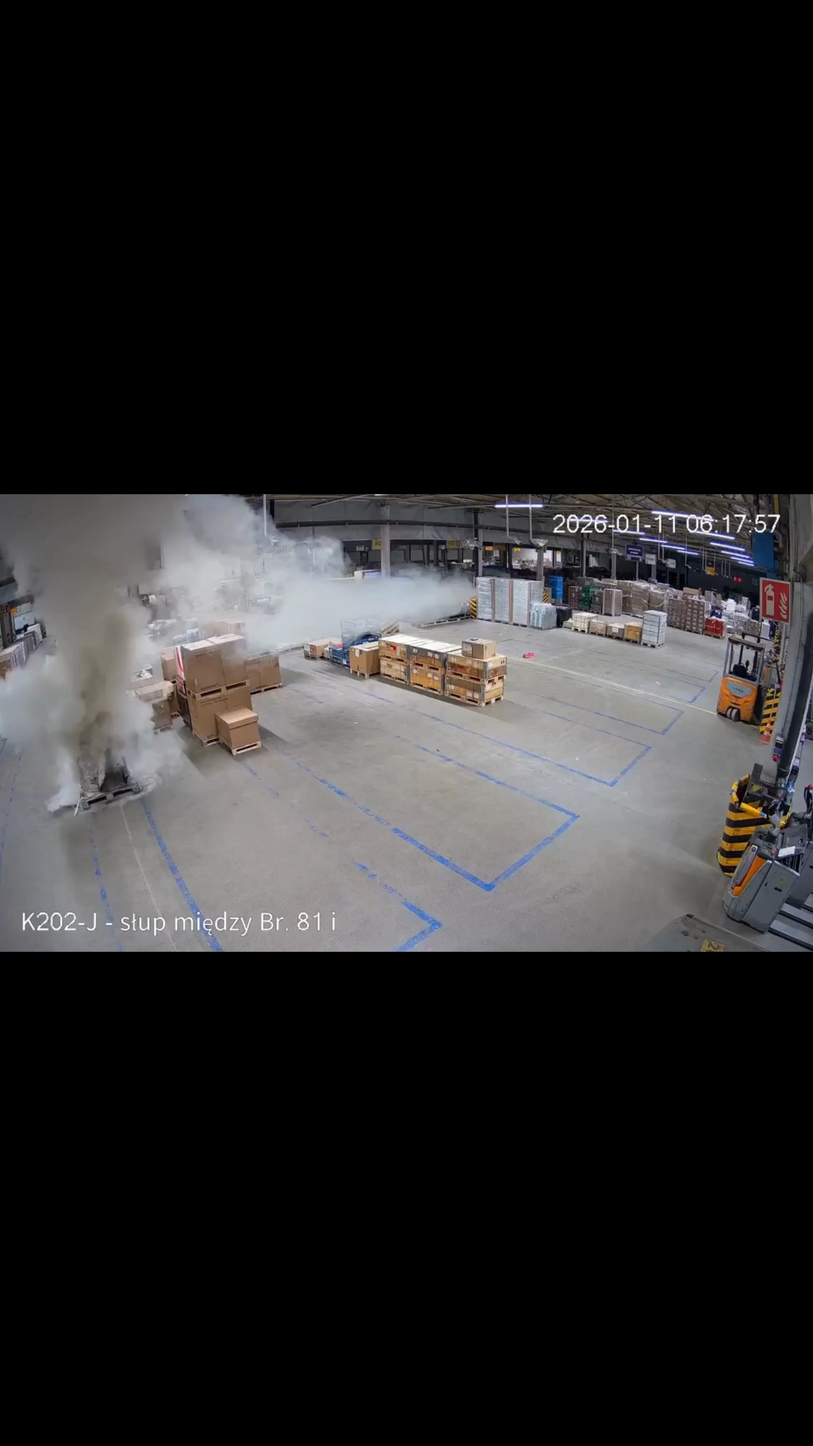smoke: (0, 495, 475, 815)
